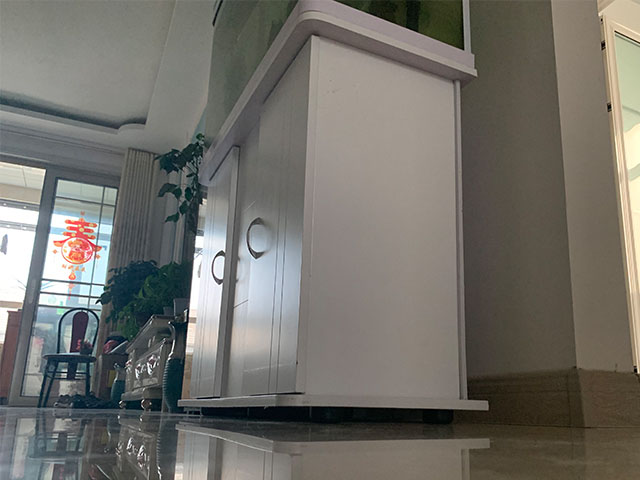cabinet: (174, 1, 490, 424), (118, 312, 174, 410)
stool: (36, 306, 100, 408)
